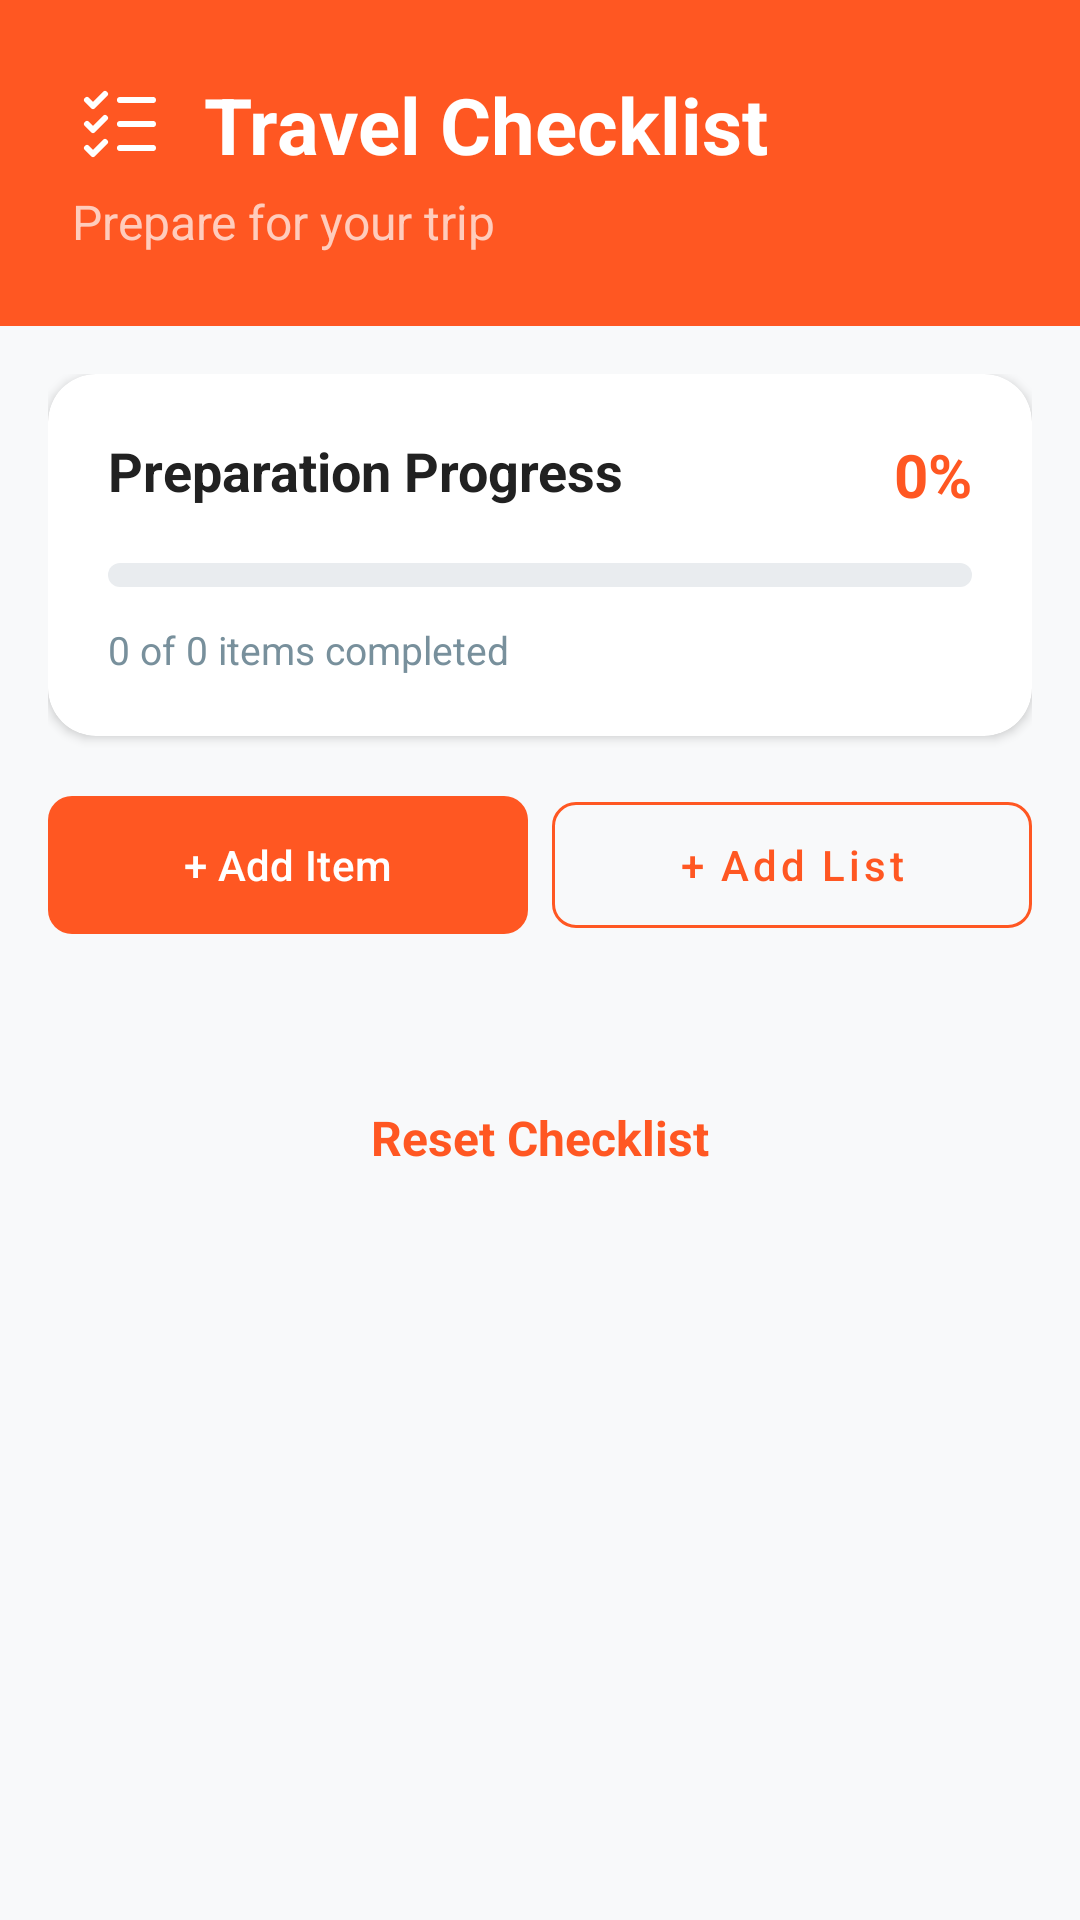

Icon click points for this 1080x1920 phone screenshot, format (x=x, y=y):
list checks: (x=120, y=124)
